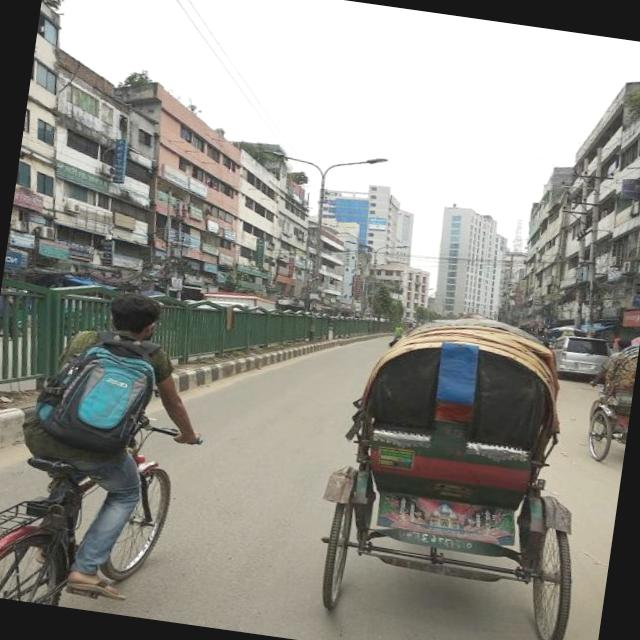motorcycle: (299, 292, 611, 640), (578, 332, 640, 467)
truck: (548, 328, 618, 383)
